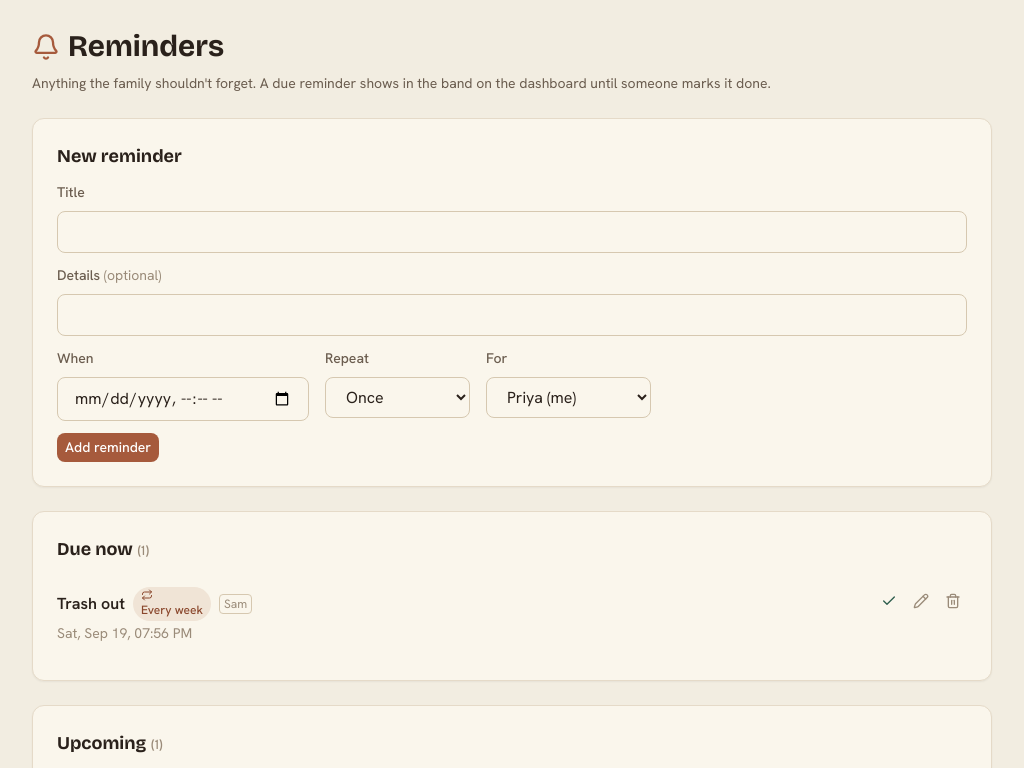
Scenario: RemindersPage › create form › surfaces a create failure
Type "X" into the field labelled "Title" at (512, 232), box 57,211 -> 967,253
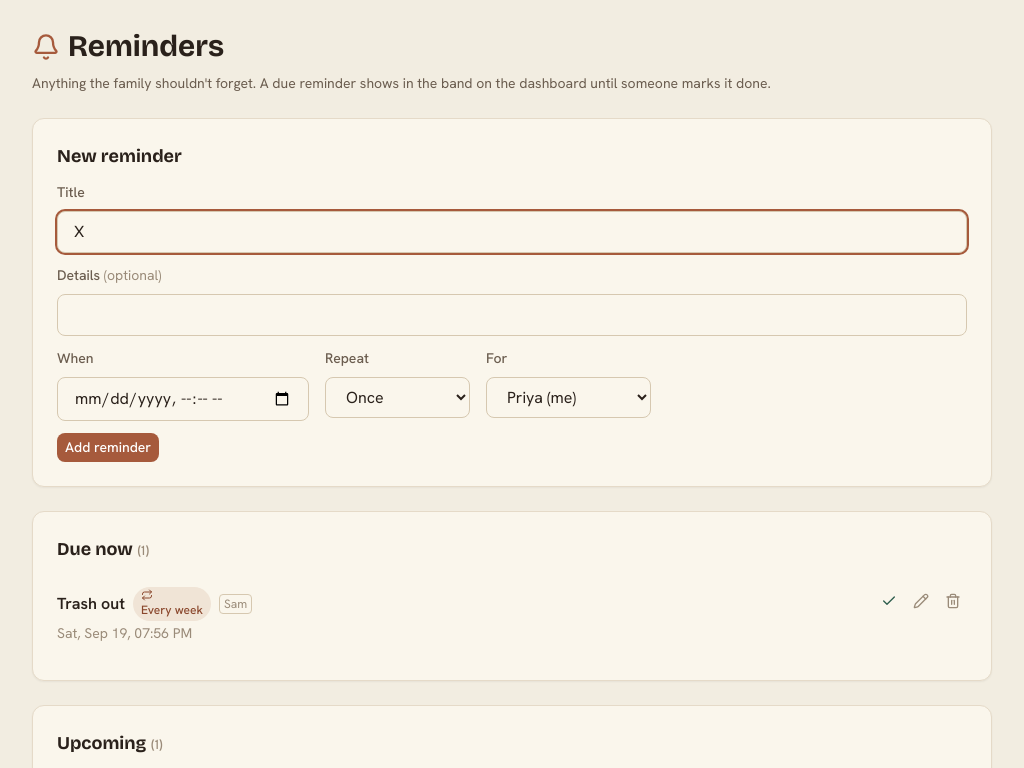
Type "2026-06-01T09:00" into the field labelled "When" at (183, 399), box 57,377 -> 309,421
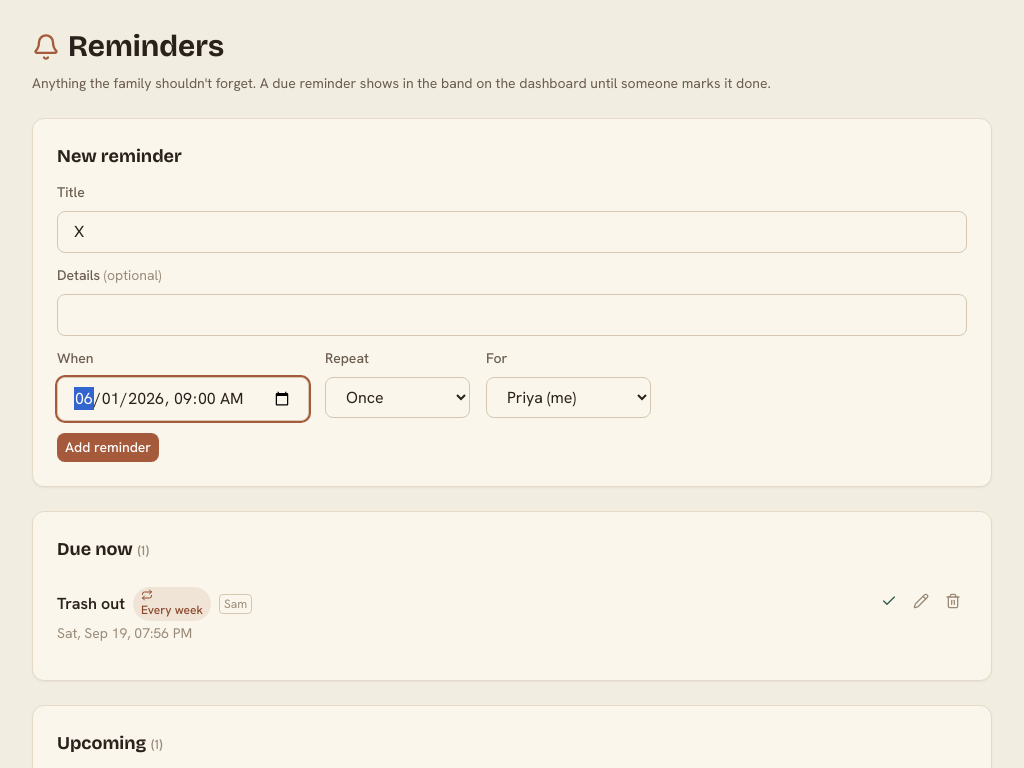
Click the button "Add reminder" at (108, 448), box 57,433 -> 159,462
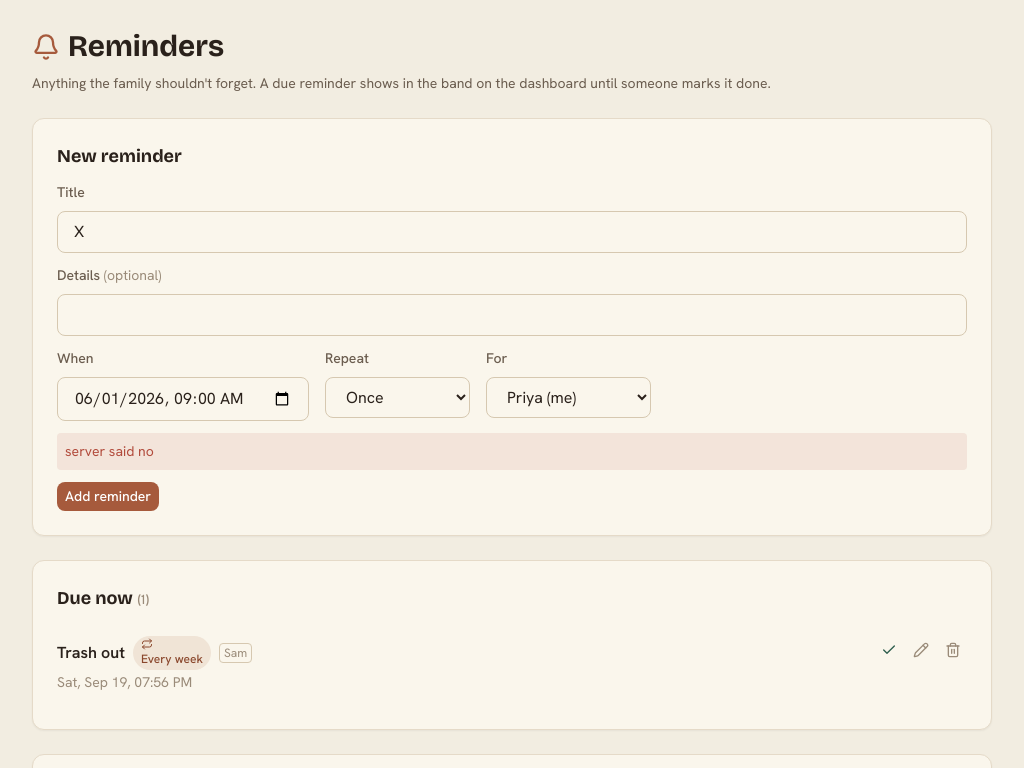
Check: the text "server said no" is shown, box 57,433 -> 967,470
